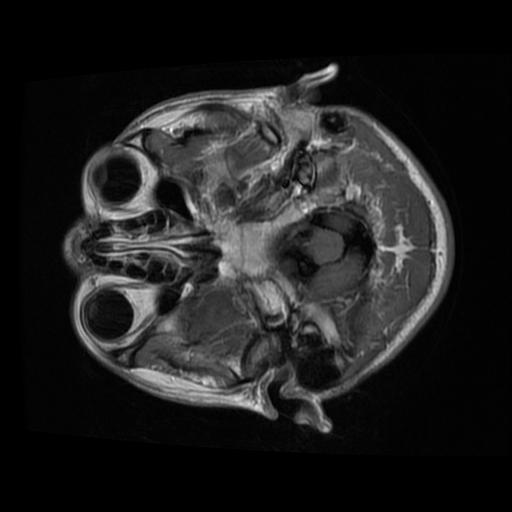glioma: (281, 218, 369, 297)
